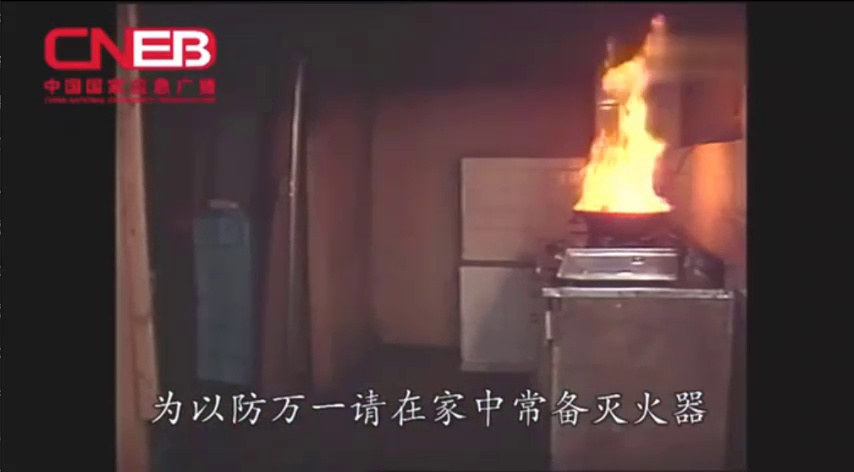fire: (553, 17, 686, 218)
